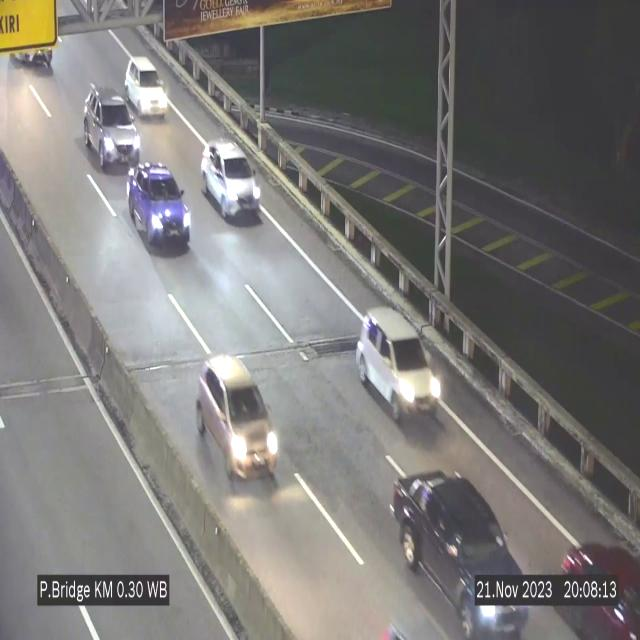Car: (381, 466, 529, 640), (196, 356, 279, 480), (356, 309, 446, 423), (556, 535, 640, 640), (127, 163, 191, 250), (84, 86, 141, 171), (200, 142, 262, 220), (124, 56, 168, 116)
